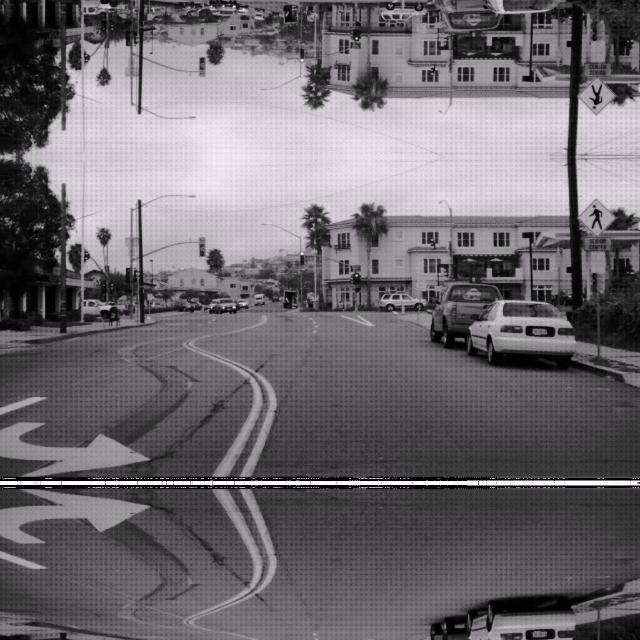pedestrianCrossing: (576, 197, 616, 236), (576, 76, 616, 115)
